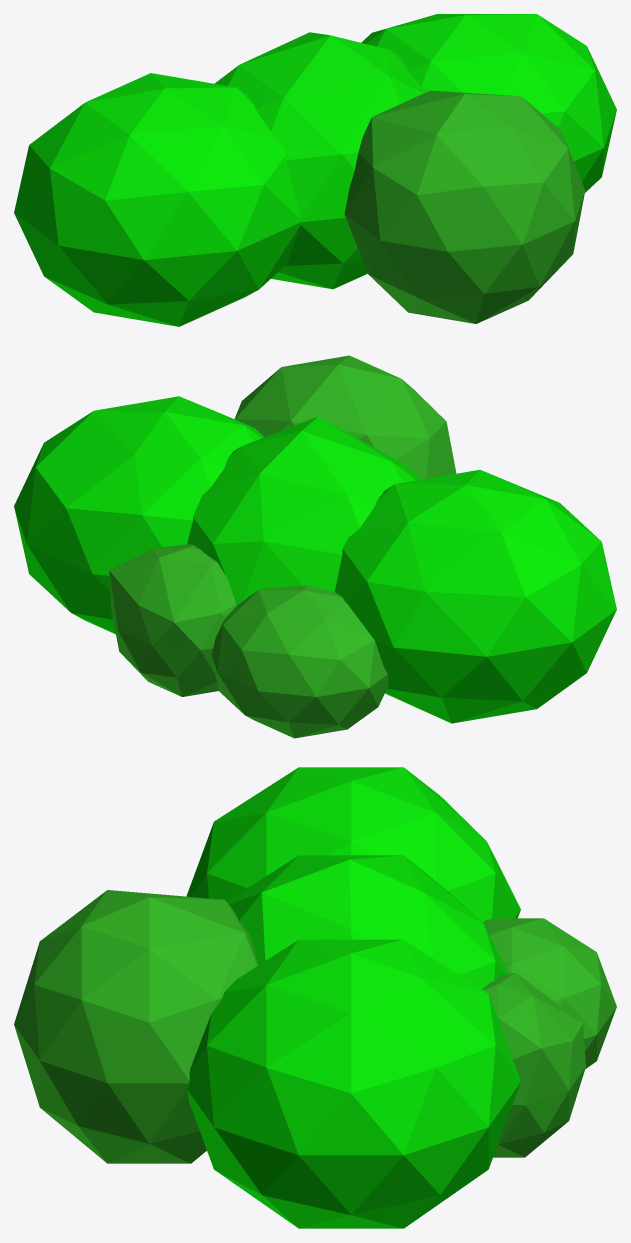
The model's file is Bush.002.glb.
The picture shows the model from 3 angles, top to bottom: view 1: azimuth 30°, elevation 25°; view 2: azimuth 150°, elevation 25°; view 3: azimuth 270°, elevation 25°; orthographic projection. The views are drawn at different scales.
Visible parts, largest first — view 1: Bush.002; view 2: Bush.002; view 3: Bush.002.
Boxes of the visible parts, left/top/right/bottom form: Bush.002: left=14, top=14, right=616, bottom=326; Bush.002: left=14, top=355, right=616, bottom=738; Bush.002: left=14, top=767, right=616, bottom=1228.
Bounding box in the file's own units: 11.69 × 4.41 × 9.32.
